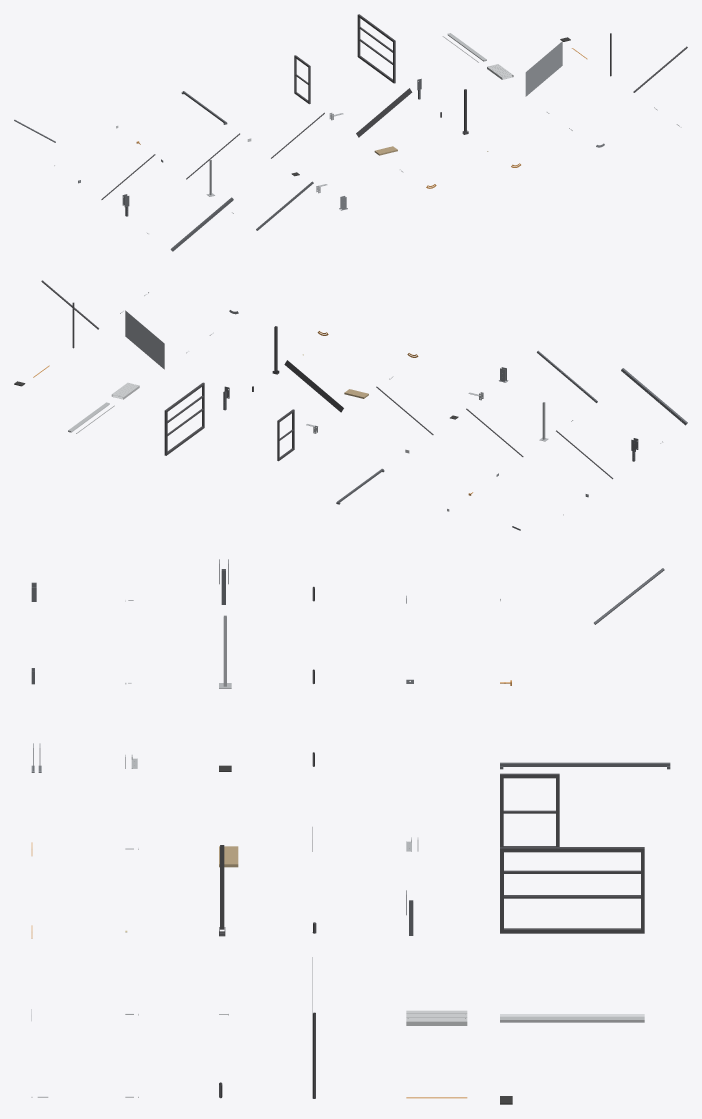
Rendered from parts_grid.glb.
3 views of the same model, one above another, from view 1: azimuth 30°, elevation 25°; view 2: azimuth 150°, elevation 25°; view 3: azimuth 270°, elevation 25° (orthographic). The views are drawn at different scales.
Parts seen in each view (by area): view 1: =>[0:1:1:69], =>[0:1:1:95], =>[0:1:1:66]; view 2: =>[0:1:1:69], =>[0:1:1:95], =>[0:1:1:66]; view 3: =>[0:1:1:95], =>[0:1:1:94], =>[0:1:1:99], =>[0:1:1:86], =>[0:1:1:93].
Part boxes in pixels (x1,y1,x2,y2): =>[0:1:1:69]: (525, 41, 562, 96); =>[0:1:1:95]: (357, 14, 395, 83); =>[0:1:1:66]: (356, 88, 412, 137); =>[0:1:1:69]: (125, 310, 164, 369); =>[0:1:1:95]: (164, 382, 204, 455); =>[0:1:1:66]: (284, 360, 343, 412); =>[0:1:1:95]: (500, 847, 644, 933); =>[0:1:1:94]: (500, 773, 559, 846); =>[0:1:1:99]: (500, 1016, 644, 1022); =>[0:1:1:86]: (406, 1010, 467, 1025); =>[0:1:1:93]: (500, 762, 670, 769).
Bounding box in the file's own units: 15.28 × 1.22 × 7.5.
